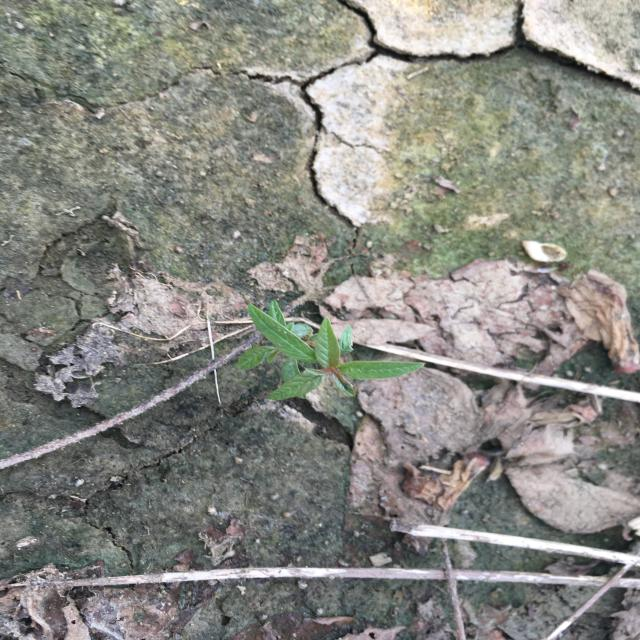Waterhemp: (234, 298, 428, 403)
